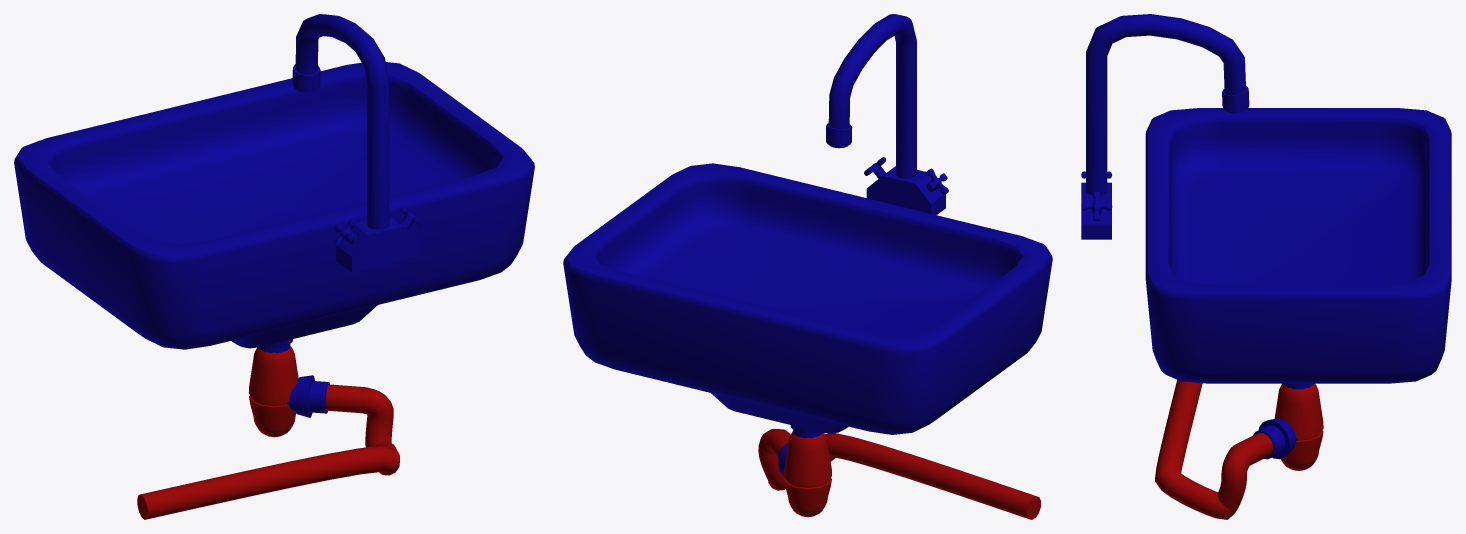
Rendered from Evier.FBX.
3 views of the same model, side by side, from view 1: azimuth 30°, elevation 25°; view 2: azimuth 150°, elevation 25°; view 3: azimuth 270°, elevation 25° (orthographic). The views are drawn at different scales.
Parts seen in each view (by area): view 1: Evier; view 2: Evier; view 3: Evier.
Part boxes in pixels (x1,y1,x2,y2): Evier: (14,14,534,519); Evier: (563,14,1052,519); Evier: (1081,14,1451,519).
Bounding box in the file's own units: 86.7 × 72.39 × 102.
